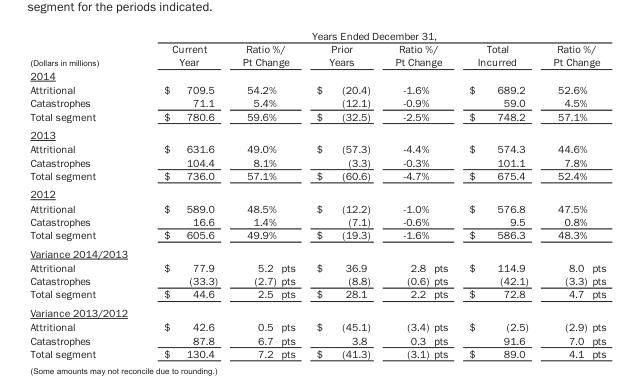table: (29, 29, 605, 359)
table column: (29, 29, 130, 359), (130, 29, 229, 359), (457, 29, 540, 359), (305, 29, 382, 359), (229, 29, 278, 359), (382, 29, 430, 359), (540, 29, 588, 359), (278, 29, 305, 359), (430, 29, 457, 359), (588, 29, 605, 359)
table column header: (29, 29, 605, 68)
table projected row header: (29, 243, 605, 260), (29, 125, 605, 141), (29, 184, 605, 200), (29, 303, 605, 319), (29, 68, 605, 82)
table row: (29, 41, 605, 68), (29, 243, 605, 260), (29, 109, 605, 125), (29, 125, 605, 141), (29, 168, 605, 184), (29, 184, 605, 200), (29, 227, 605, 243), (29, 287, 605, 303), (29, 303, 605, 319), (29, 68, 605, 82), (29, 95, 605, 109), (29, 141, 605, 155), (29, 200, 605, 214), (29, 273, 605, 287), (29, 319, 605, 333), (29, 82, 605, 95), (29, 155, 605, 168), (29, 214, 605, 227), (29, 260, 605, 273), (29, 333, 605, 346), (29, 346, 605, 359), (29, 29, 605, 41)
table spanning cell: (130, 29, 605, 41), (29, 29, 130, 68), (229, 41, 305, 68), (382, 41, 457, 68), (540, 41, 605, 68)
